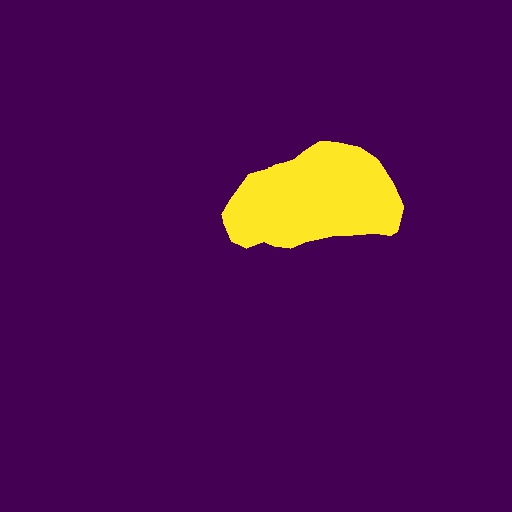Gliomia_tumour: (221, 141, 404, 249)
